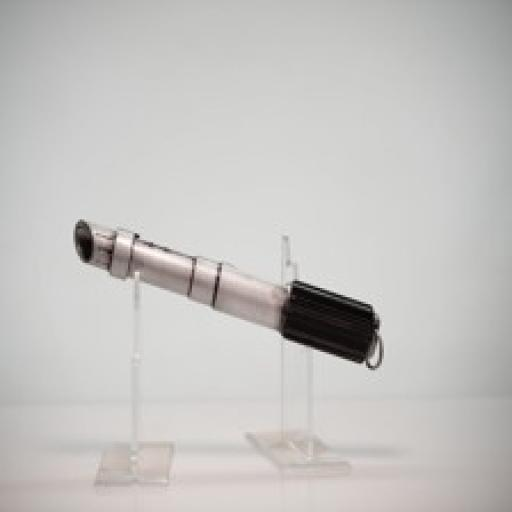lightsaber: (62, 206, 387, 376)
